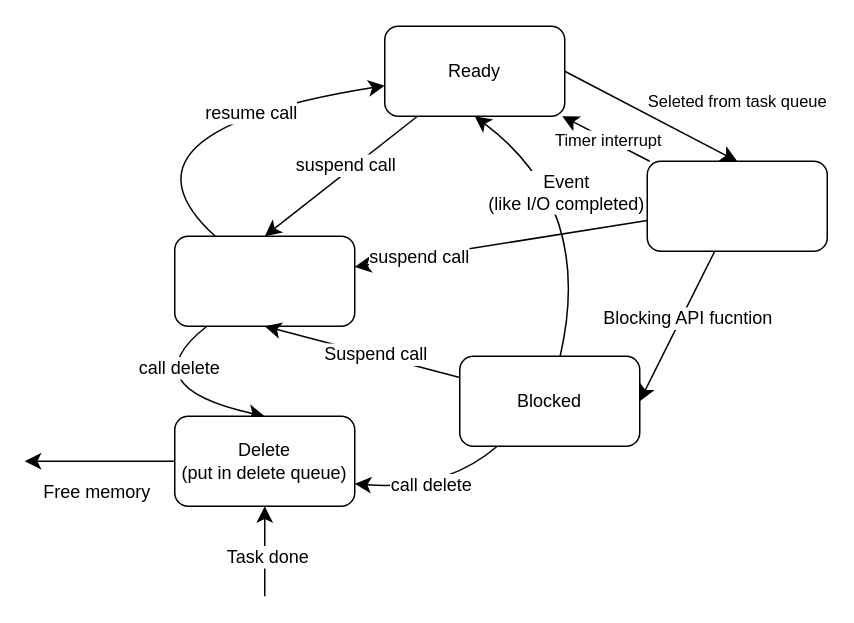
Image size: 854x623. Some labels were removed from this diagram. Each missing label, with the centre of its shape:
"Running" goes at point (736, 205).
"Suspended (in suspend list)" goes at point (264, 280).
